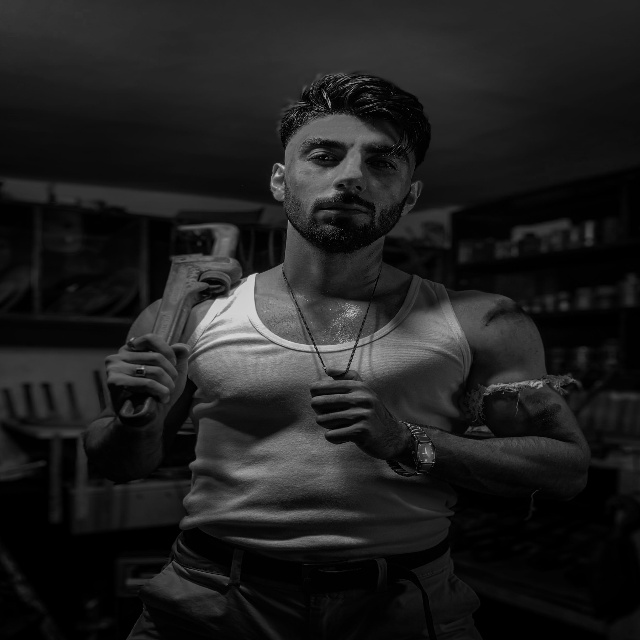Sin_guantes: (103, 330, 191, 431), (309, 367, 400, 461)
